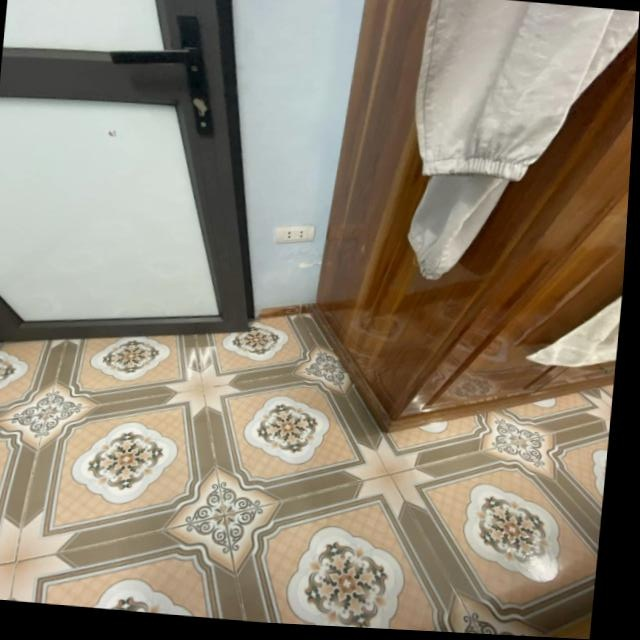outlet: (275, 221, 317, 246)
